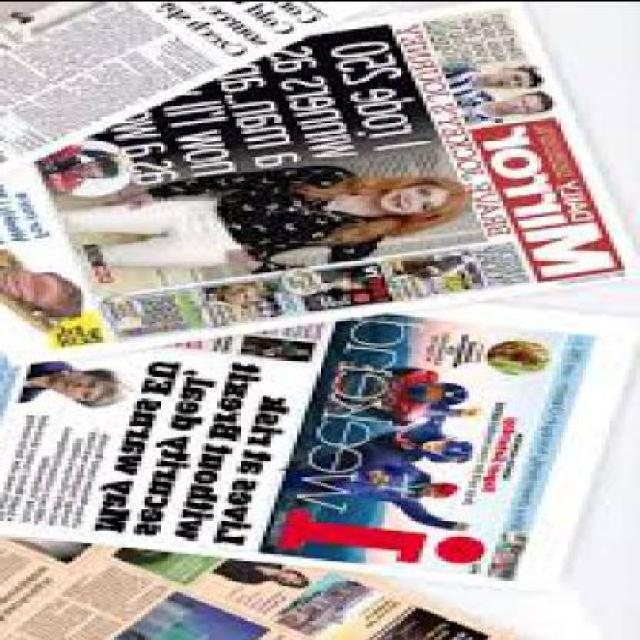PAPER: (3, 2, 639, 369), (3, 303, 639, 594), (4, 2, 381, 173), (3, 537, 595, 638)
